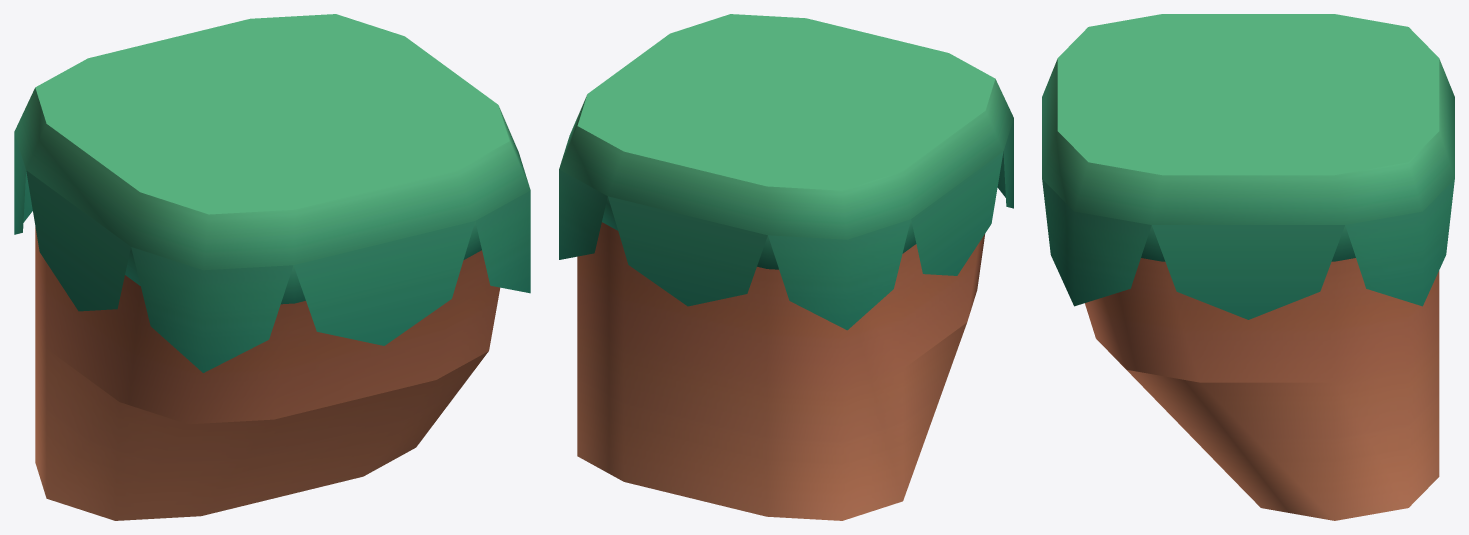
The model's file is block-grass-overhang-edge.glb.
3 views of the same model, side by side, from view 1: azimuth 30°, elevation 25°; view 2: azimuth 150°, elevation 25°; view 3: azimuth 270°, elevation 25° (orthographic). The views are drawn at different scales.
Parts seen in each view (by area): view 1: block-grass-overhang-edge; view 2: block-grass-overhang-edge; view 3: block-grass-overhang-edge.
Part boxes in pixels (left/top/right/bottom): block-grass-overhang-edge: left=14, top=14, right=530, bottom=520; block-grass-overhang-edge: left=559, top=14, right=1013, bottom=520; block-grass-overhang-edge: left=1042, top=14, right=1454, bottom=520.
Size of the model in its own units: 1.08 by 1 by 1.08.
1 material, 1 textured.
